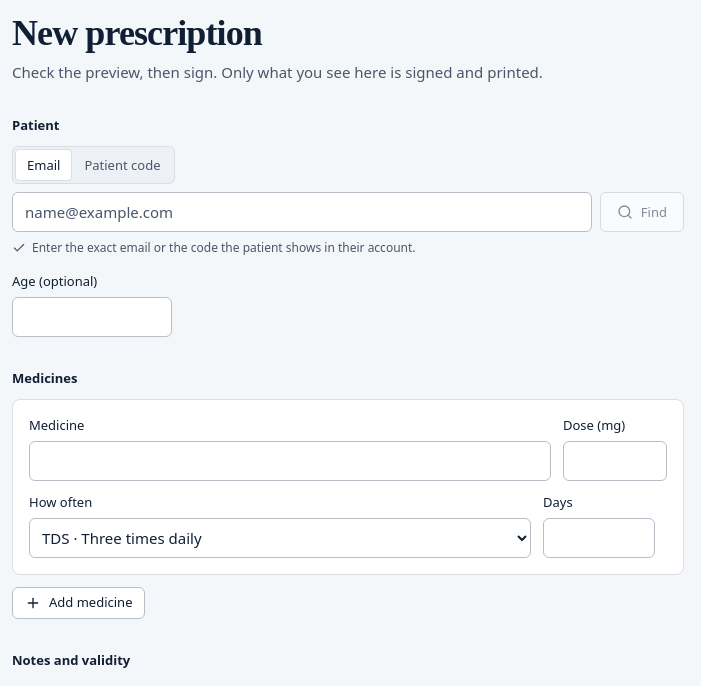
Test: New prescription: safety check › suggests the correct spelling and applies it with one click
The image size is (701, 686).
Step 1. Type "Amoxicilin" into the field labelled "Medicine" → (290, 461), box [29,441,551,481]
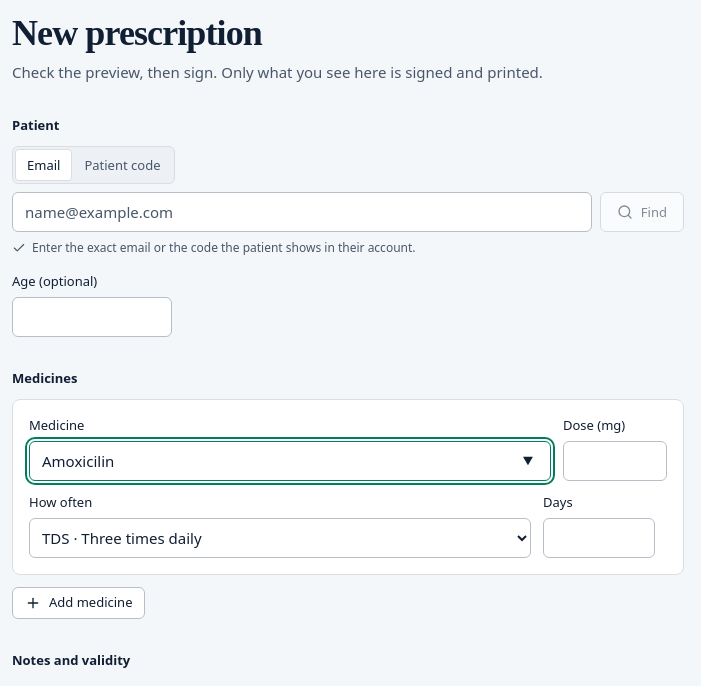
Step 2. Type "500" into the number field labelled "Dose (mg)" → (615, 461), box [563,441,667,481]
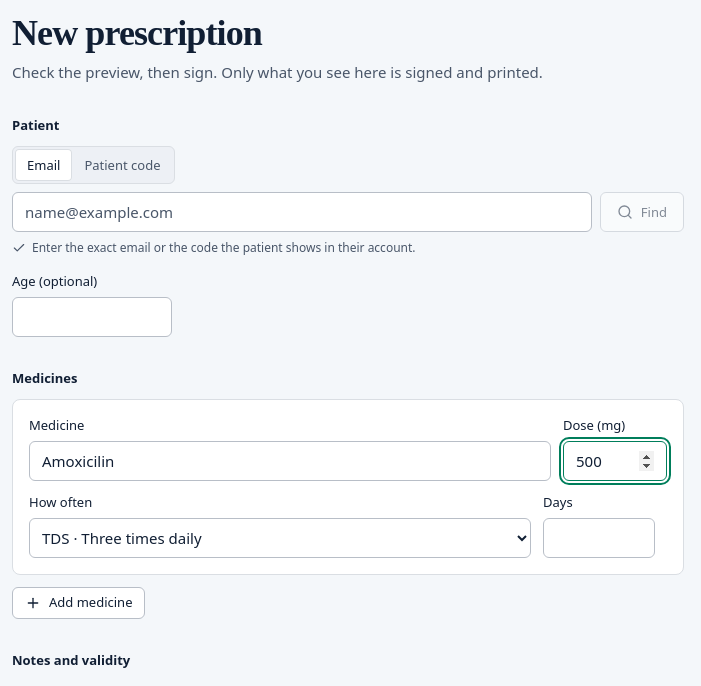
Step 3. Type "5" into the number field labelled "Days" → (599, 538), box [543,518,655,558]
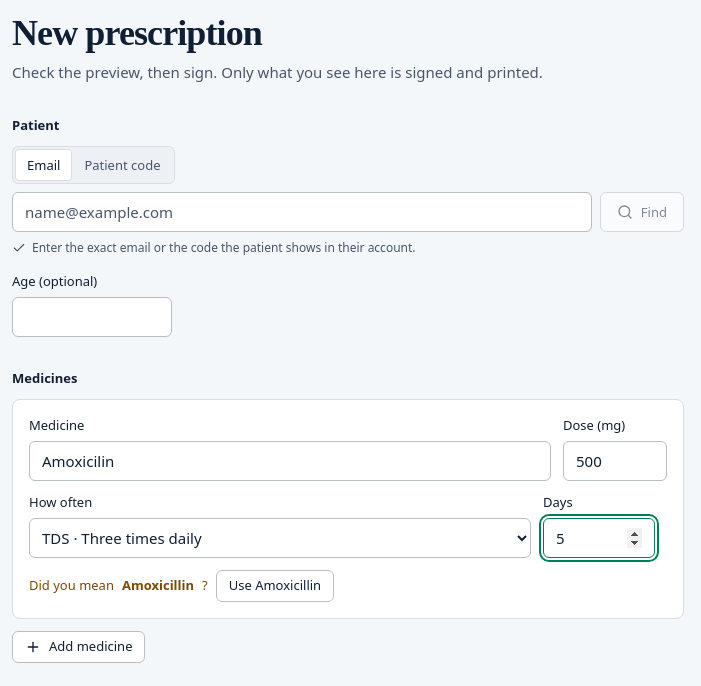
Result: the text "Did you mean Amoxicillin ? Use Amoxicillin" is shown at [29,570,334,602]
Step 4. Click the button "Use Amoxicillin" → (275, 586), box [216,570,334,602]
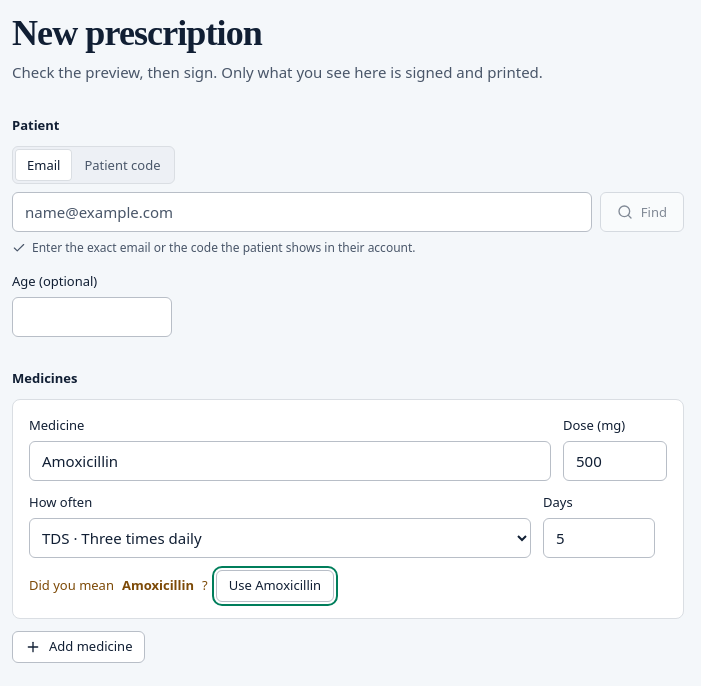
Result: the field labelled "Medicine" holds "Amoxicillin" at [29,441,551,481]
